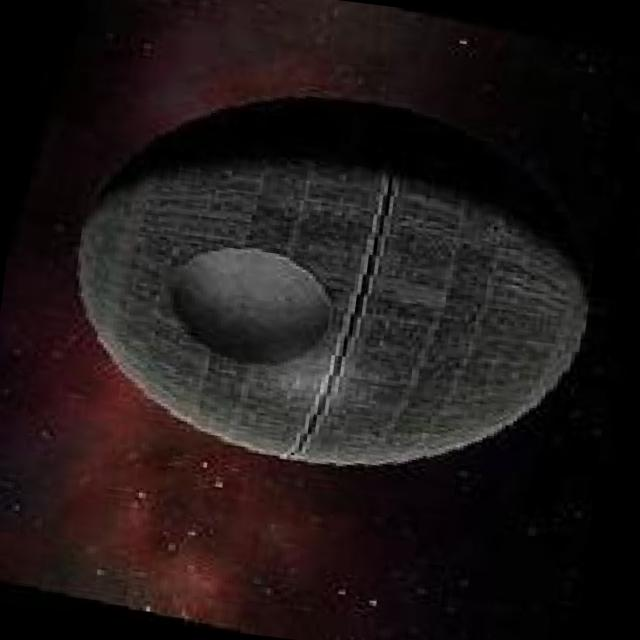Death Star: (47, 73, 608, 494)
